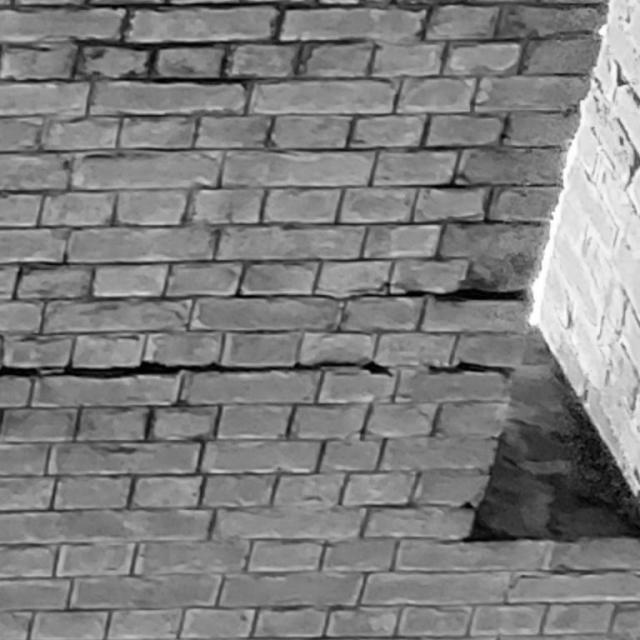crack: (1, 360, 512, 380), (358, 284, 524, 304)
